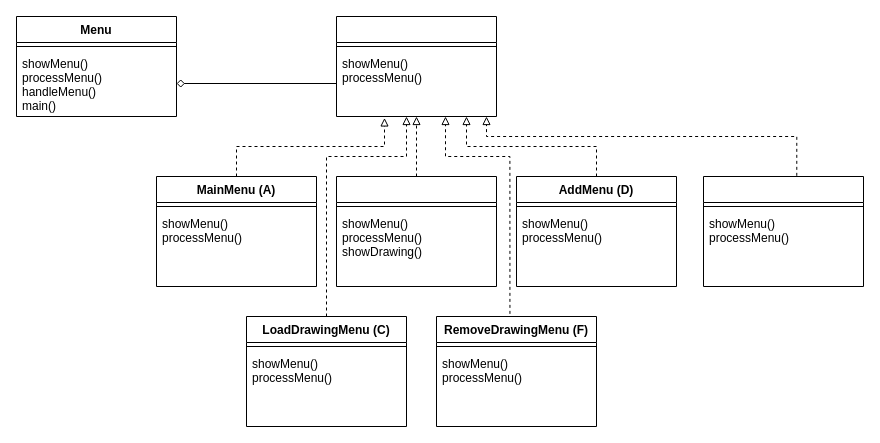
This 880x443 diagram has some shape labels left out. Each missing label, with the box of its shape:
DrawableMenu (B): (336, 176, 496, 286)
MenuState interface: (336, 16, 496, 116)
RemoveMenu (E): (702, 176, 864, 286)
